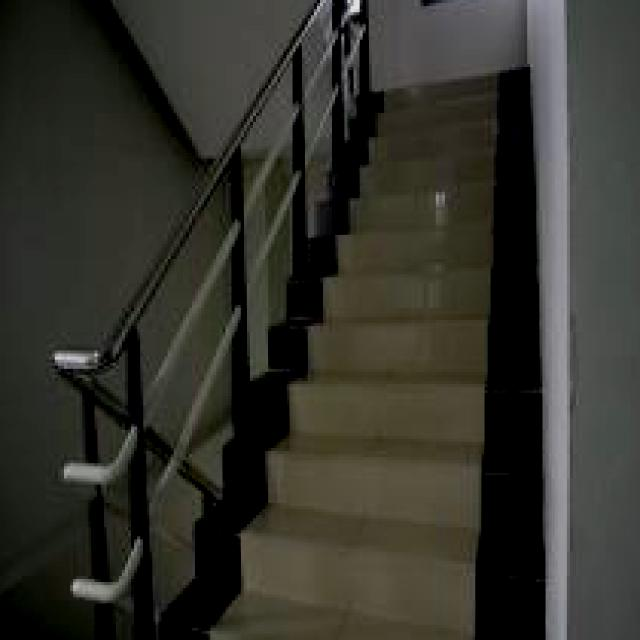upstair: (327, 92, 534, 640)
